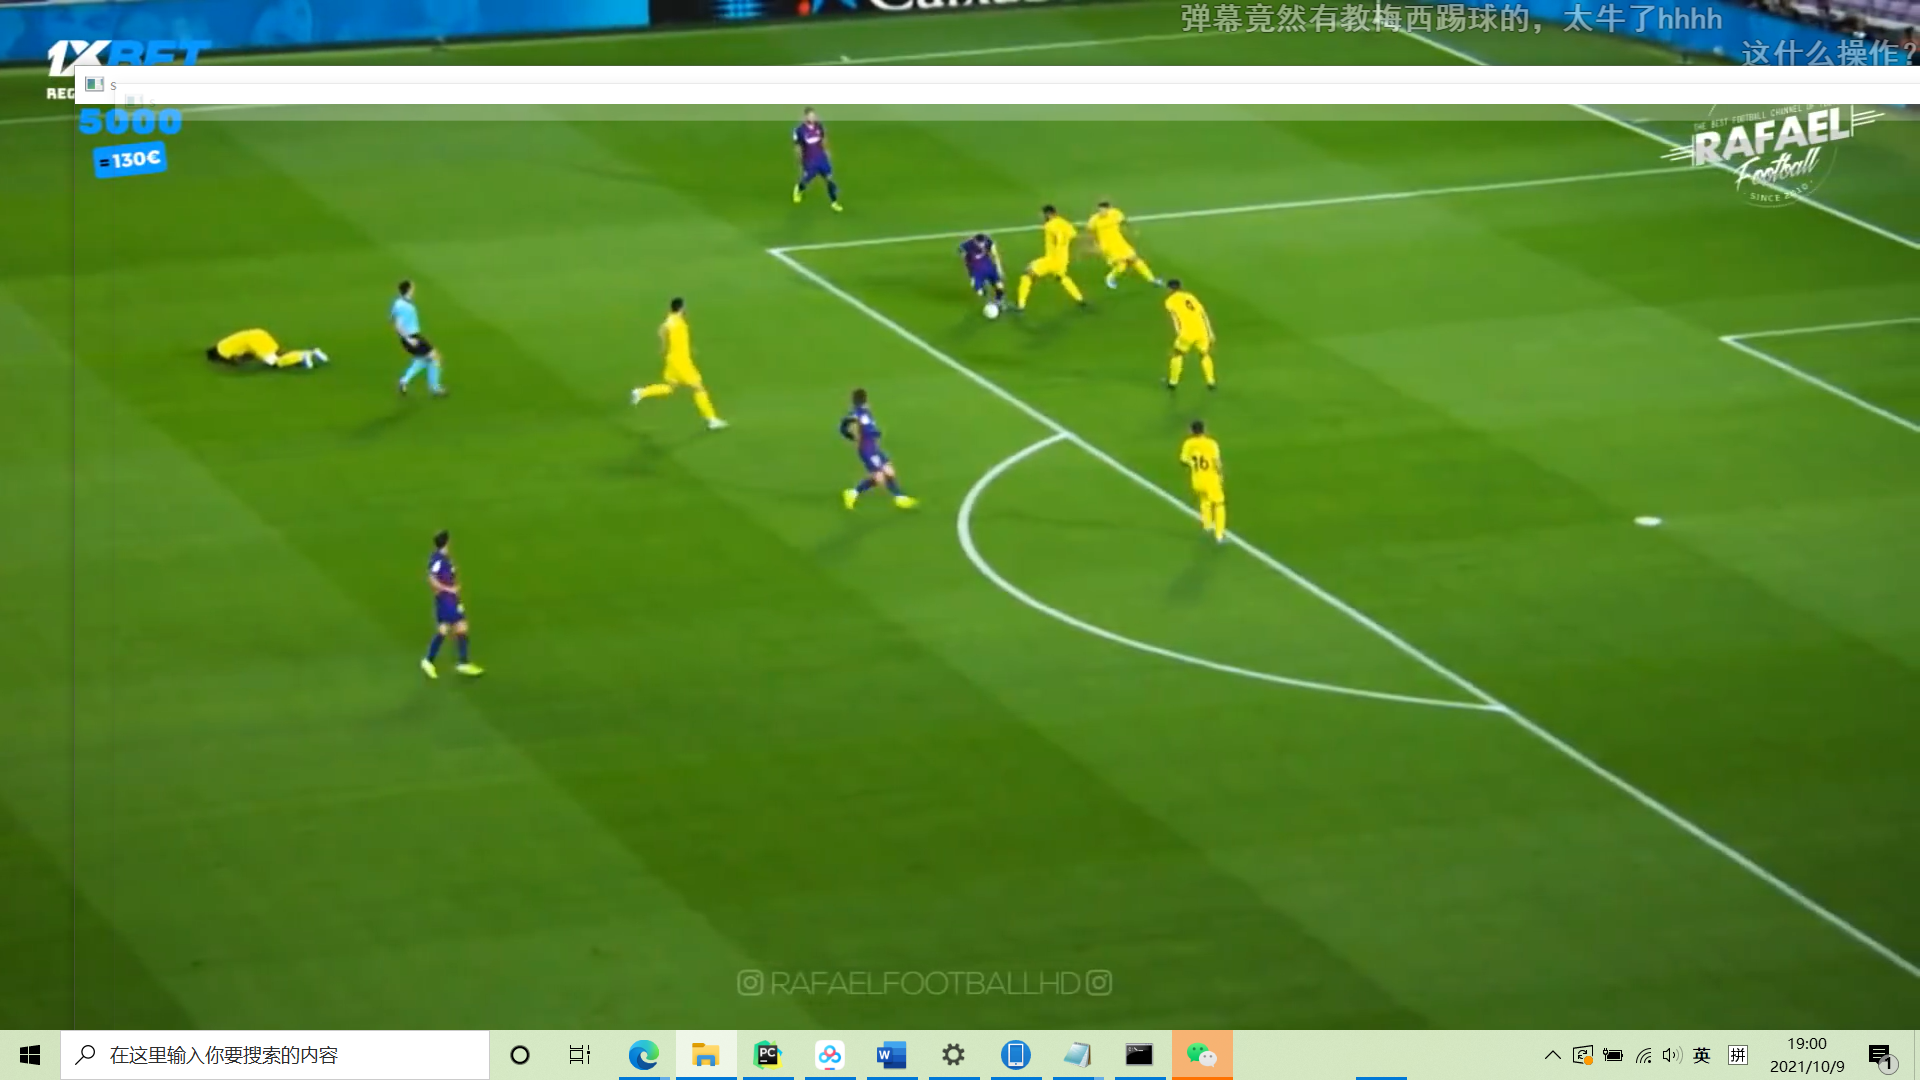ft: (982, 301, 1000, 320)
